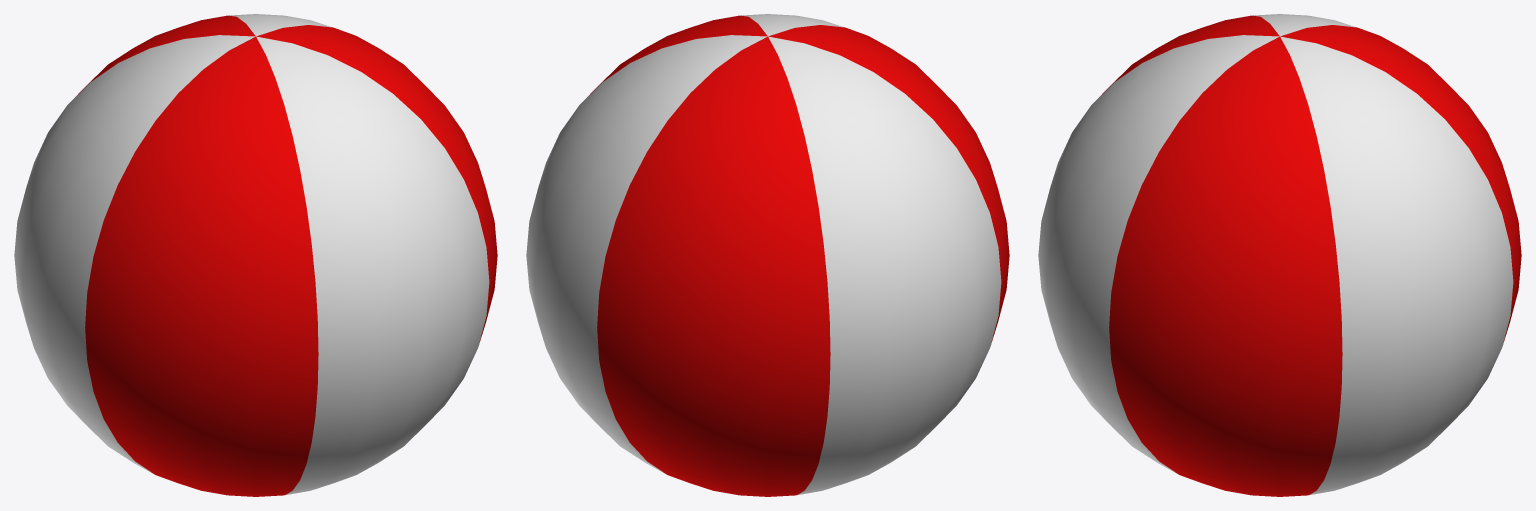
File: beachball.fbx
The picture shows the model from 3 angles, left to right: view 1: azimuth 30°, elevation 25°; view 2: azimuth 150°, elevation 25°; view 3: azimuth 270°, elevation 25°; orthographic projection.
Visible parts, largest first — view 1: pSphere1; view 2: pSphere1; view 3: pSphere1.
Part boxes in pixels (x1,y1,x2,y2): pSphere1: [14, 14, 497, 496]; pSphere1: [526, 14, 1009, 496]; pSphere1: [1038, 14, 1521, 496].
Size of the model in its own units: 157 by 157 by 157.
